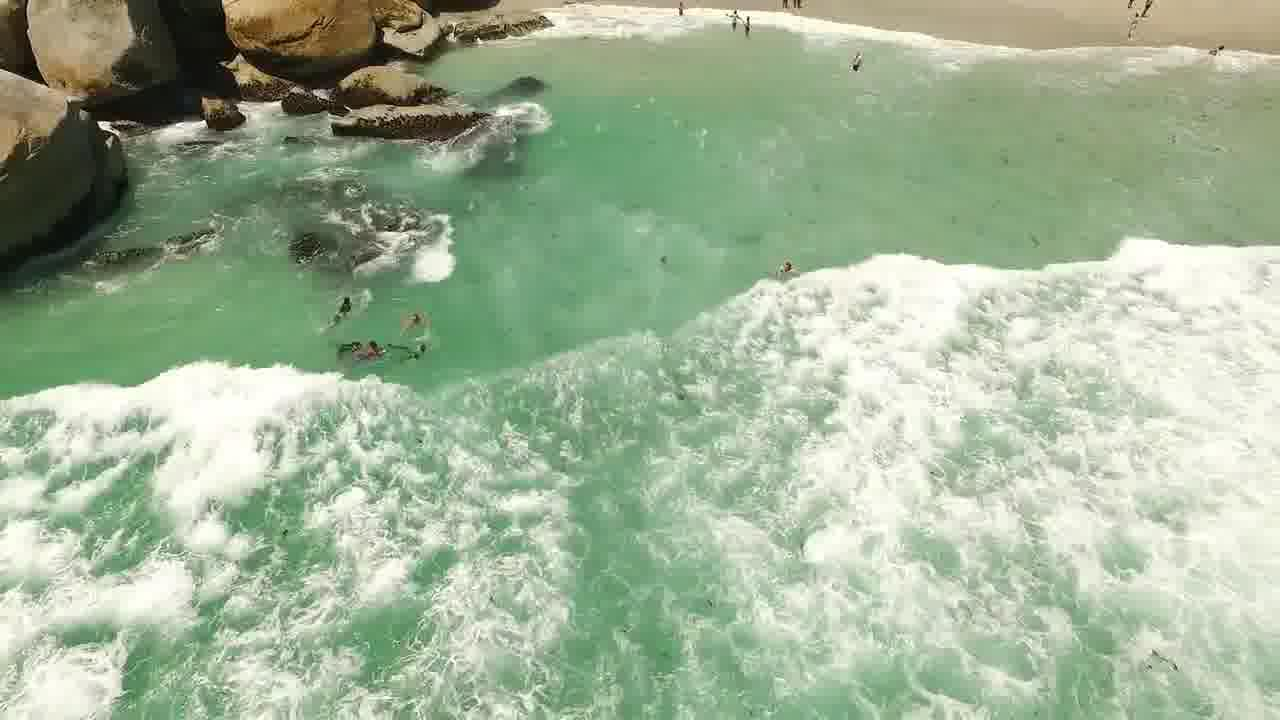swimmer: (766, 240, 814, 290), (830, 40, 886, 78), (364, 328, 398, 375), (712, 6, 759, 40), (1200, 32, 1234, 65), (314, 285, 358, 306), (336, 340, 361, 365)
